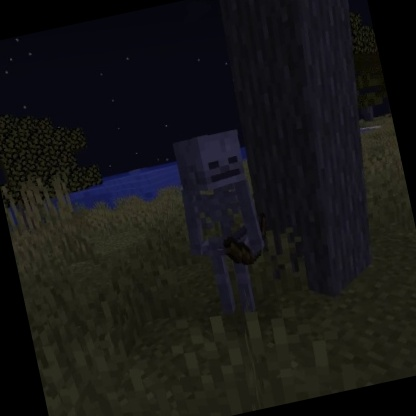skeleton: (162, 120, 288, 322)
